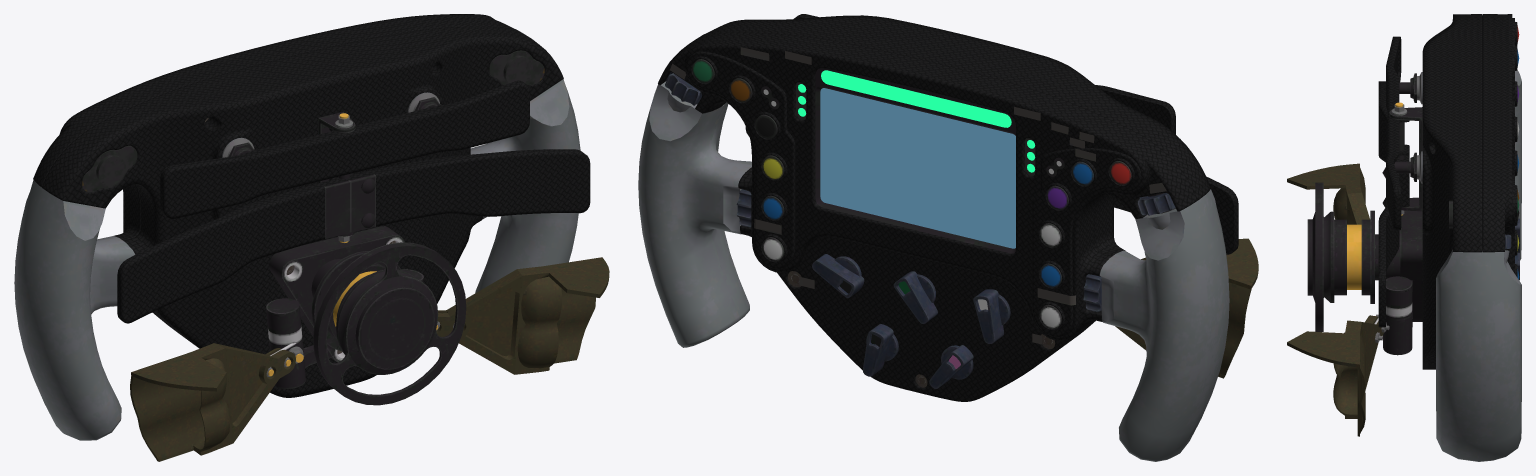
Rendered from am26-steering-wheel.glb.
The picture shows the model from 3 angles, left to right: view 1: azimuth 30°, elevation 25°; view 2: azimuth 150°, elevation 25°; view 3: azimuth 270°, elevation 25°; orthographic projection. The views are drawn at different scales.
Visible parts, largest first — view 1: steering_wheel_force_india_steeringwheel_0, steering_wheel_force_india_carbon4_0, left_paddle_force_india_carbon4_0, right_paddle_force_india_carbon4_0, left_paddle_force_india_steeringwheel_0, right_paddle_force_india_steeringwheel_0; view 2: steering_wheel_force_india_carbon4_0, steering_wheel_force_india_steeringwheel_0, steering_wheel_generic_lcd_0, steering_wheel_vehicle_revs_type1_0, right_paddle_force_india_carbon4_0, mix_dial_force_india_steeringwheel_0, tyre_dial_force_india_steeringwheel_0; view 3: steering_wheel_force_india_steeringwheel_0, steering_wheel_force_india_carbon4_0, left_paddle_force_india_carbon4_0, right_paddle_force_india_carbon4_0.
Boxes of the visible parts, x1=… form: steering_wheel_force_india_steeringwheel_0: x1=14, y1=50, x2=609, y2=461; steering_wheel_force_india_carbon4_0: x1=33, y1=14, x2=563, y2=397; left_paddle_force_india_carbon4_0: x1=347, y1=149, x2=590, y2=226; right_paddle_force_india_carbon4_0: x1=117, y1=177, x2=348, y2=323; left_paddle_force_india_steeringwheel_0: x1=349, y1=174, x2=375, y2=232; right_paddle_force_india_steeringwheel_0: x1=324, y1=180, x2=350, y2=238; steering_wheel_force_india_carbon4_0: x1=658, y1=14, x2=1210, y2=401; steering_wheel_force_india_steeringwheel_0: x1=638, y1=47, x2=1258, y2=461; steering_wheel_generic_lcd_0: x1=820, y1=88, x2=1015, y2=248; steering_wheel_vehicle_revs_type1_0: x1=821, y1=70, x2=1011, y2=127; right_paddle_force_india_carbon4_0: x1=1114, y1=176, x2=1238, y2=254; mix_dial_force_india_steeringwheel_0: x1=973, y1=289, x2=1010, y2=343; tyre_dial_force_india_steeringwheel_0: x1=863, y1=324, x2=898, y2=376; steering_wheel_force_india_steeringwheel_0: x1=1287, y1=25, x2=1521, y2=461; steering_wheel_force_india_carbon4_0: x1=1386, y1=14, x2=1517, y2=369; left_paddle_force_india_carbon4_0: x1=1378, y1=158, x2=1409, y2=327; right_paddle_force_india_carbon4_0: x1=1378, y1=81, x2=1409, y2=162.
Size of the model in its own units: 0.2902 by 0.1625 by 0.1232.
5 materials, 2 textured.
